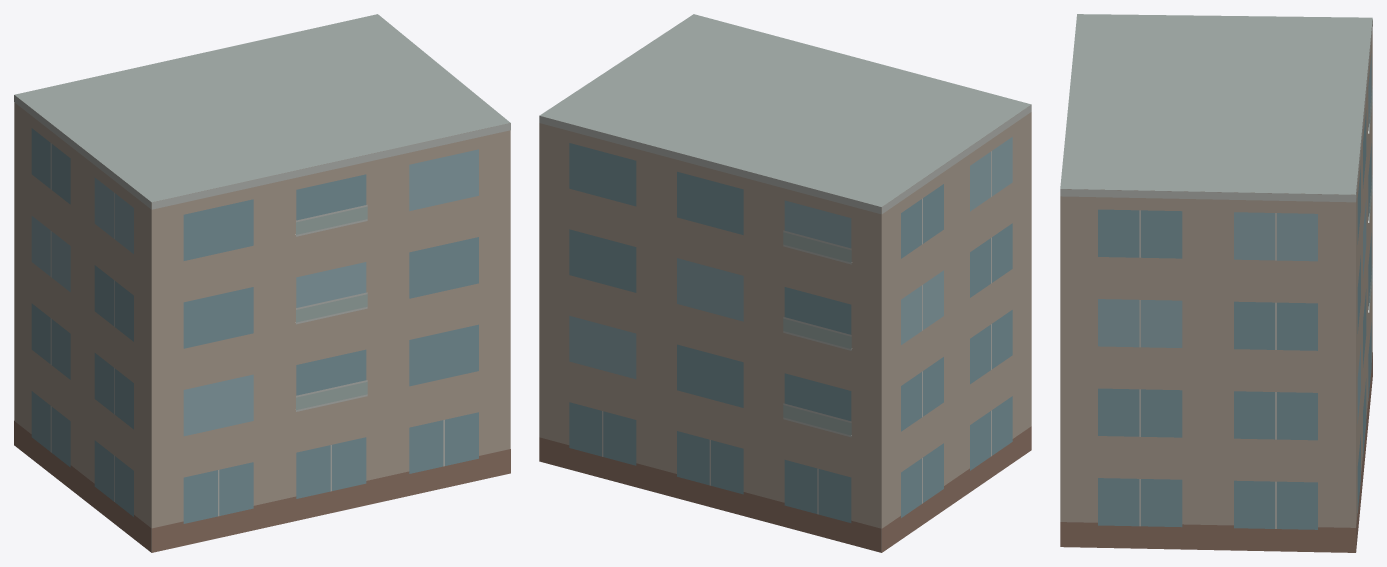
The model's file is survey-upis-32576904.glb.
3 renders of one model, left to right at view 1: azimuth 30°, elevation 25°; view 2: azimuth 150°, elevation 25°; view 3: azimuth 270°, elevation 25°, orthographic. The views are drawn at different scales.
Visible parts, largest first — view 1: survey-upis-32576904.tmp; view 2: survey-upis-32576904.tmp; view 3: survey-upis-32576904.tmp.
Part boxes in pixels (bbox=[...]): survey-upis-32576904.tmp: bbox=[14, 14, 510, 552]; survey-upis-32576904.tmp: bbox=[539, 14, 1031, 552]; survey-upis-32576904.tmp: bbox=[1060, 14, 1372, 552].
Bounding box in the file's own units: 12.54 × 11.57 × 9.17.
